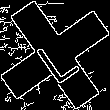L_NW: (28, 25, 82, 85)
